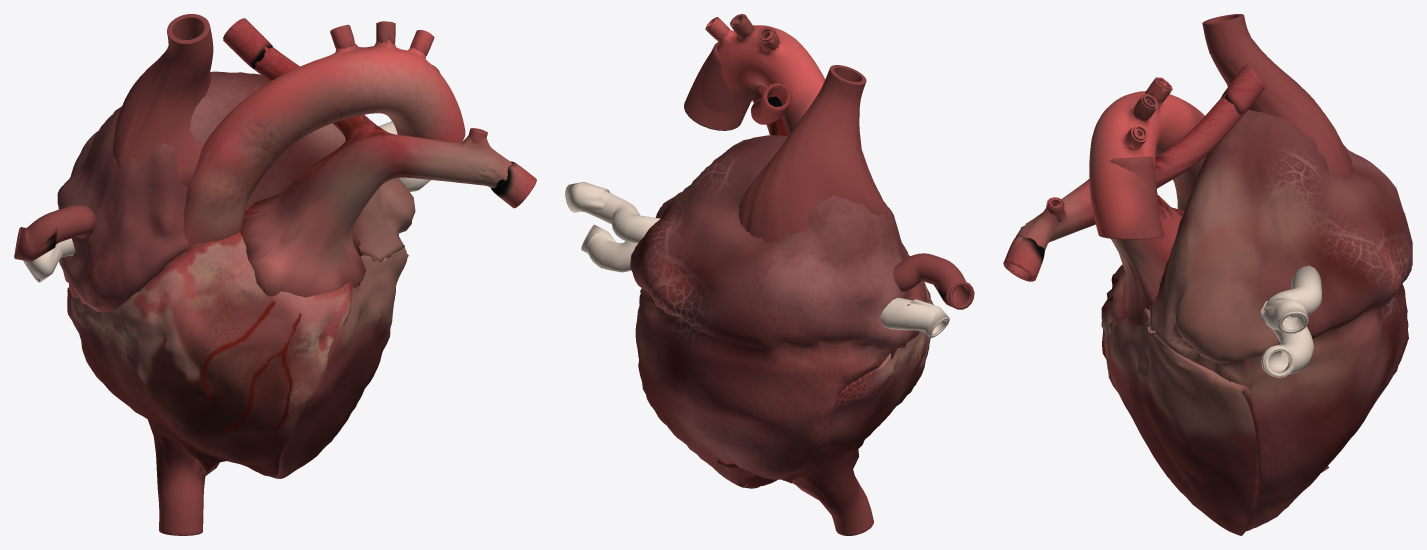
Rendered from heart.fbx.
The picture shows the model from 3 angles, left to right: view 1: azimuth 30°, elevation 25°; view 2: azimuth 150°, elevation 25°; view 3: azimuth 270°, elevation 25°; orthographic projection. The views are drawn at different scales.
Parts seen in each view (by area): view 1: Object002, Box002, Line002, Line001, Object001, Line003, Line010, Line006, Line007; view 2: Box002, Line003, Line001, Object002, Line010, Line009, Line006, Line007, Line008, Line002; view 3: Box002, Object001, Line002, Line001, Line003, Line009, Line008, Object002.
Part boxes in pixels (x1,y1,x2,y2): Object002: (67, 232, 352, 478); Box002: (57, 71, 415, 311); Line002: (223, 18, 536, 297); Line001: (183, 21, 465, 247); Object001: (270, 247, 408, 478); Line003: (112, 14, 213, 186); Line010: (147, 419, 219, 535); Line006: (14, 205, 96, 261); Line007: (23, 238, 74, 282); Box002: (630, 135, 927, 488); Line003: (738, 65, 888, 242); Line001: (684, 14, 825, 135); Object002: (717, 282, 933, 487); Line010: (792, 449, 873, 535); Line009: (565, 181, 660, 243); Line006: (893, 253, 974, 309); Line007: (880, 298, 949, 337); Line008: (581, 224, 637, 272); Line002: (751, 83, 791, 136); Box002: (1149, 109, 1412, 531); Object001: (1107, 307, 1258, 535); Line002: (1003, 64, 1265, 326); Line001: (1089, 77, 1206, 239); Line003: (1202, 14, 1353, 179); Line009: (1263, 265, 1321, 333); Line008: (1260, 301, 1313, 377); Object002: (1101, 264, 1328, 472).
Size of the model in its own units: 0.5597 by 0.6305 by 0.4679.
